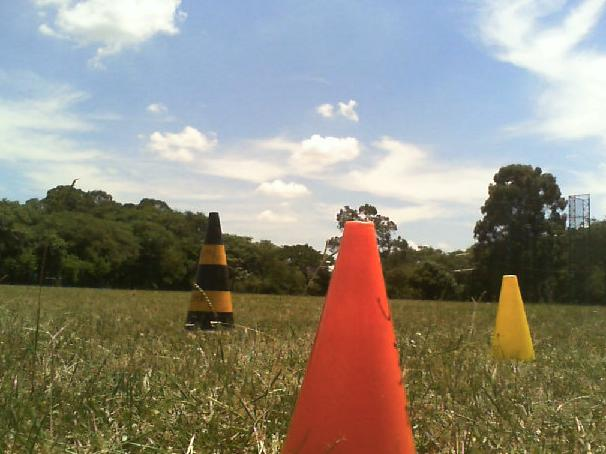0 cone: (260, 222, 424, 454), (184, 211, 236, 330), (490, 275, 538, 361)
